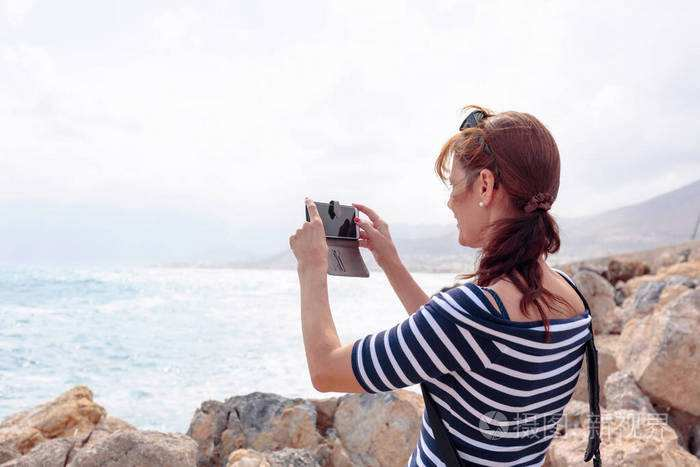taking photos: (286, 193, 399, 270)
